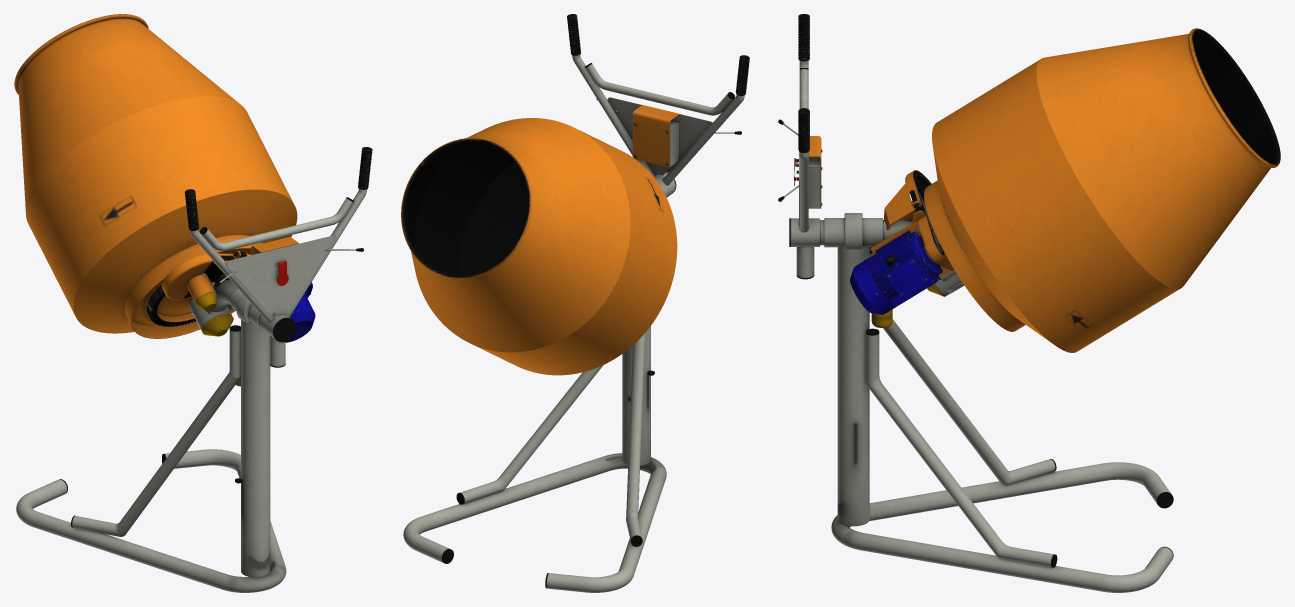
Rendered from ConcreteMixer.fbx.
3 views of the same model, side by side, from view 1: azimuth 30°, elevation 25°; view 2: azimuth 150°, elevation 25°; view 3: azimuth 270°, elevation 25° (orthographic). The views are drawn at different scales.
Visible parts, largest first — view 1: BM-180 (3).001, BM-180 (3); view 2: BM-180 (3).001, BM-180 (3); view 3: BM-180 (3).001, BM-180 (3).
Boxes of the visible parts, bbox=[...] form: BM-180 (3).001: bbox=[14, 14, 297, 338]; BM-180 (3): bbox=[16, 147, 372, 592]; BM-180 (3).001: bbox=[401, 118, 677, 375]; BM-180 (3): bbox=[403, 14, 749, 592]; BM-180 (3).001: bbox=[924, 28, 1280, 352]; BM-180 (3): bbox=[778, 14, 1173, 592].
Size of the model in its own units: 116 by 224 by 205.
